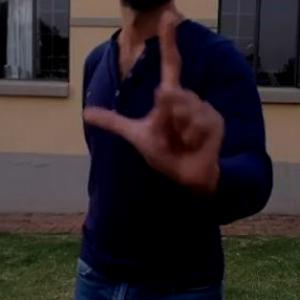land_hand: (81, 3, 235, 195)
